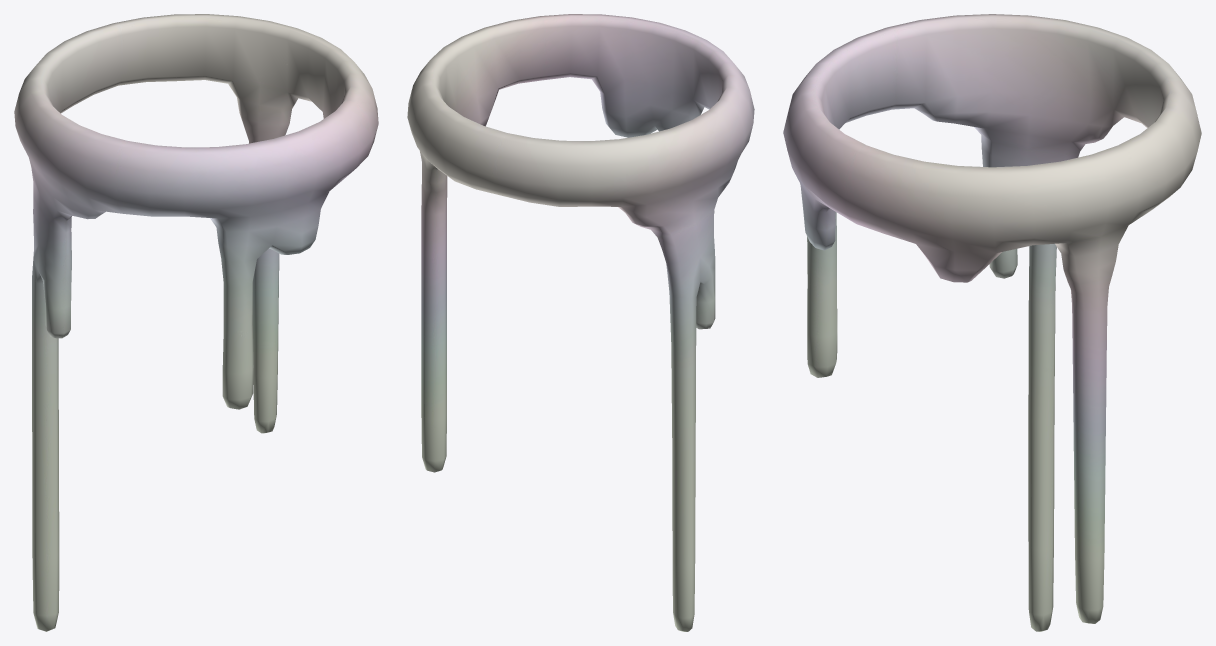
The model's file is Floating_Pool.fbx.
The picture shows the model from 3 angles, left to right: view 1: azimuth 30°, elevation 25°; view 2: azimuth 150°, elevation 25°; view 3: azimuth 270°, elevation 25°; orthographic projection. The views are drawn at different scales.
Parts seen in each view (by area): view 1: Floating_Pool; view 2: Floating_Pool; view 3: Floating_Pool.
Boxes of the visible parts, bbox=[...] form: Floating_Pool: bbox=[14, 14, 378, 631]; Floating_Pool: bbox=[407, 14, 754, 631]; Floating_Pool: bbox=[783, 14, 1201, 631].
Bounding box in the file's own units: 1557 × 2512 × 1558.
